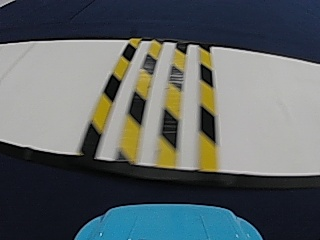bump: (81, 43, 223, 163)
